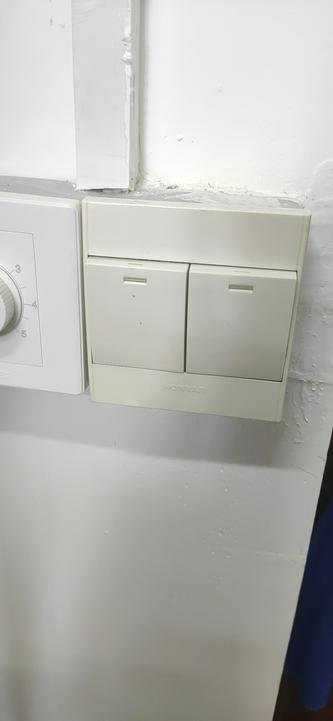switch: (187, 258, 291, 383), (84, 252, 188, 374)
